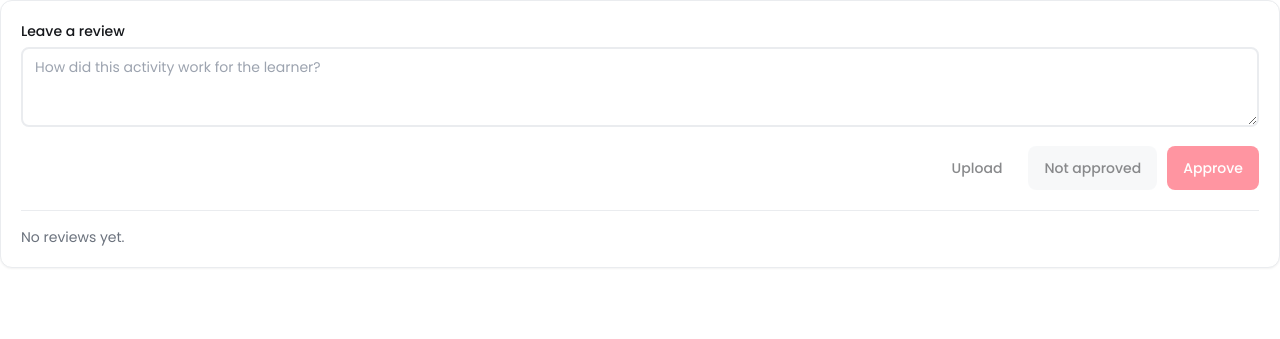
Test: UT-4.11 shows the save error and keeps the review off the list
Type "Useful activity." into the text box labelled "Leave a review" at [640, 87], box [21,47,1259,127]
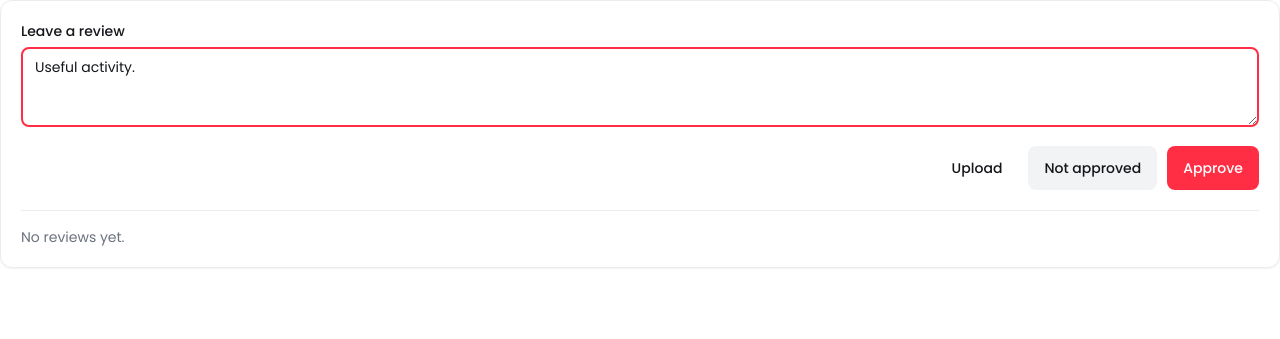
Click the button "Upload" at [977, 168], box [936,146,1018,190]
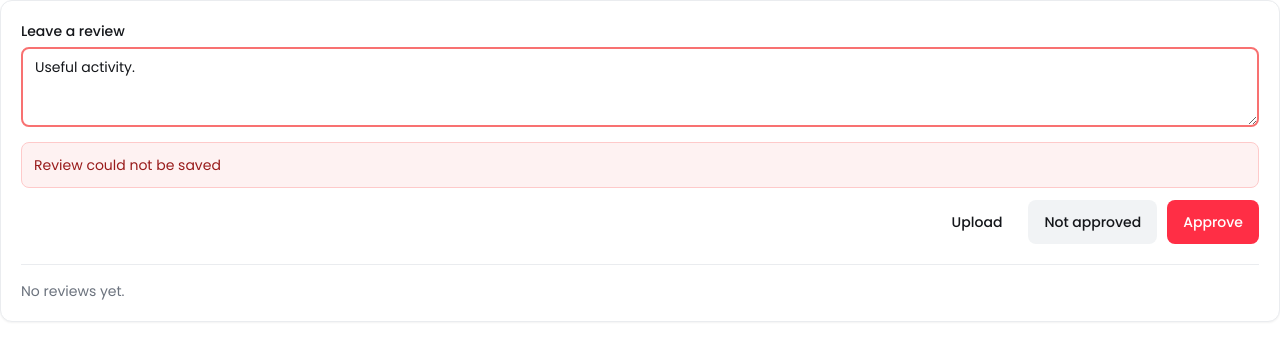
Now the message reads "Review could not be saved", box [34,155,221,175]
